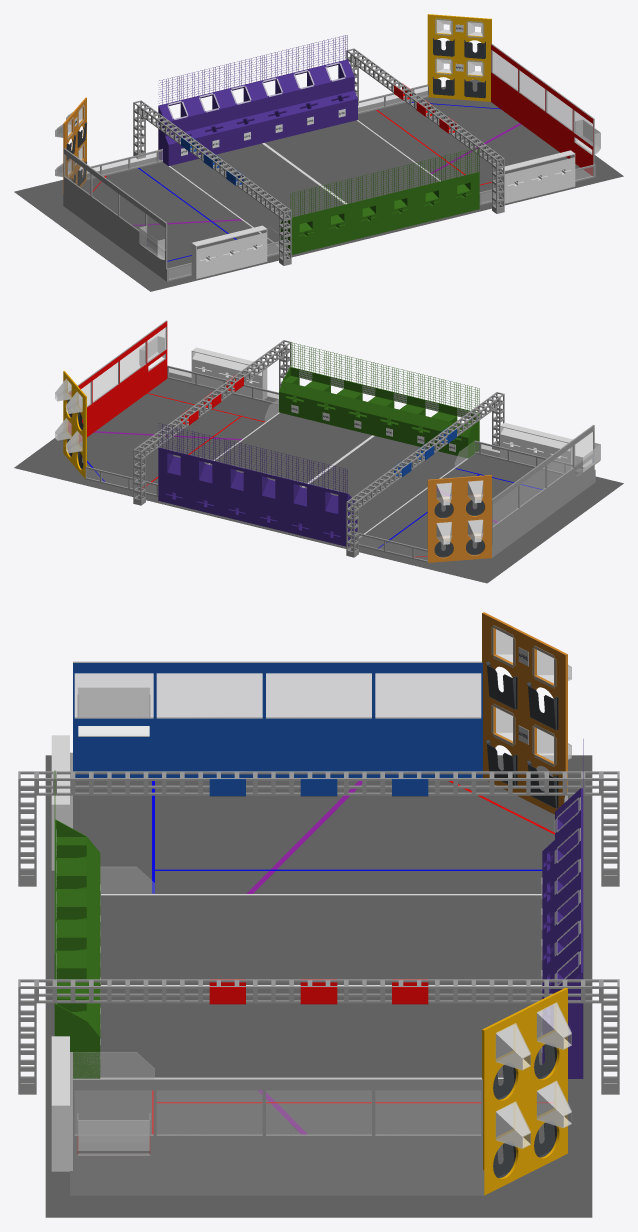
3 views of the same model, one above another, from view 1: azimuth 30°, elevation 25°; view 2: azimuth 150°, elevation 25°; view 3: azimuth 270°, elevation 25° (orthographic). The views are drawn at different scales.
Parts seen in each view (by area): view 1: carpet, field_walls, tall_scoring_wall, short_scoring_wall, truss (×2), shield_loading_station (×2), driver_station_glass (×6), hp_station_glass; view 2: carpet, field_walls, tall_scoring_wall, short_scoring_wall, truss (×2), shield_loading_station (×2), driver_station_glass (×5), hp_station_glass; view 3: carpet, field_walls, driver_station_glass (×6), truss (×2), short_scoring_wall, tall_scoring_wall, hp_station_glass (×2), ball_funnel (×4), shield_loading_station (×2), protective_barrier (×2), red_climb_pad (×3), blue_climb_pad (×3) (+1 smaller).
Part boxes in pixels (x1,y1,x2,y2): carpet: (14,79,623,291); field_walls: (63,14,600,281); tall_scoring_wall: (158,35,357,165); short_scoring_wall: (280,147,479,254); truss (×2): (133,48,504,265); shield_loading_station (×2): (191,150,575,278); driver_station_glass (×6): (64,50,572,230); hp_station_glass: (573,110,592,145); carpet: (14,368,623,583); field_walls: (63,320,600,562); tall_scoring_wall: (158,423,357,546); short_scoring_wall: (279,342,479,458); truss (×2): (133,340,504,557); shield_loading_station (×2): (191,347,575,472); driver_station_glass (×5): (93,342,573,526); hp_station_glass: (147,327,166,362); carpet: (45,755,592,1217); field_walls: (70,612,567,1195); driver_station_glass (×6): (157,673,480,1135); truss (×2): (18,771,619,1094); short_scoring_wall: (54,770,100,1078); tall_scoring_wall: (542,739,583,1078); hp_station_glass (×2): (75,673,153,1135); ball_funnel (×4): (495,1002,571,1148); shield_loading_station (×2): (51,735,69,1171); protective_barrier (×2): (73,867,154,1078); red_climb_pad (×3): (209,979,428,1004); blue_climb_pad (×3): (209,771,428,796).
Size of the model in its own units: 18.29 by 3.05 by 10.06.
